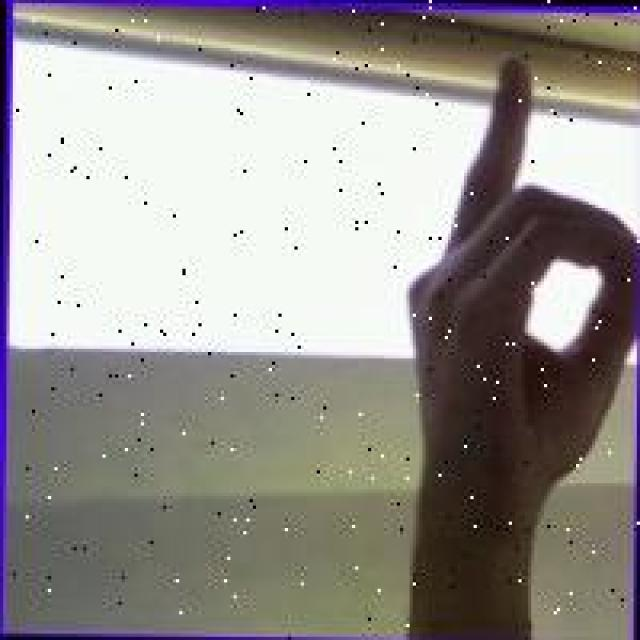D: (371, 43, 637, 555)
